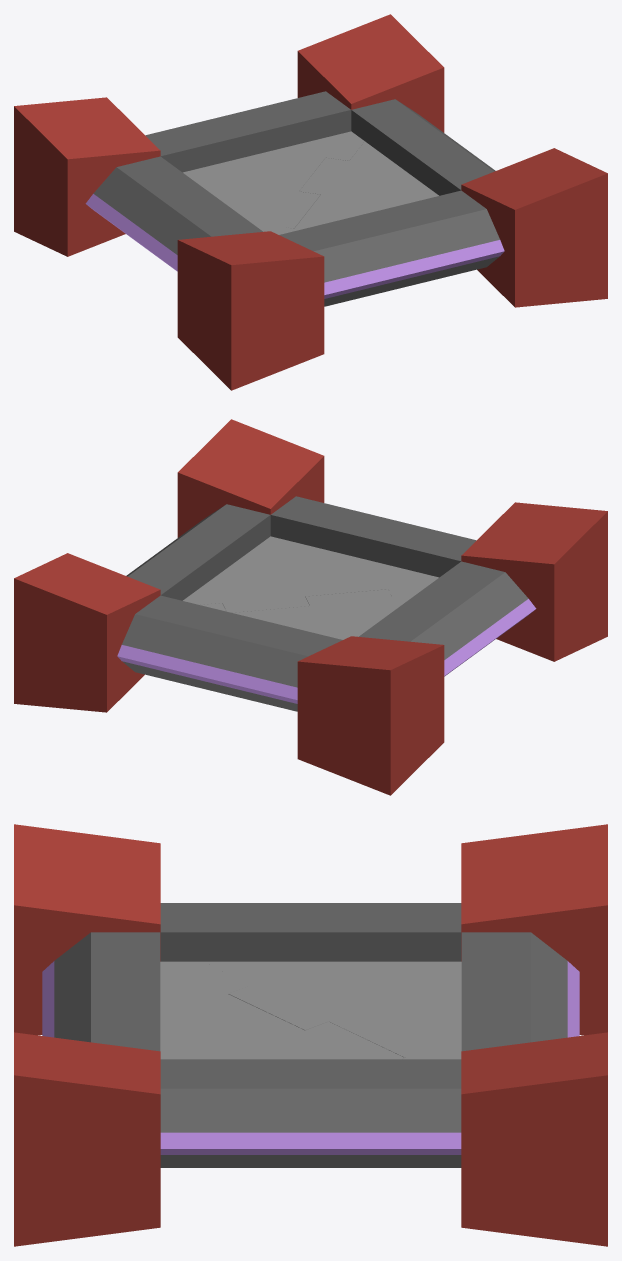
Rendered from trap (1).fbx.
The picture shows the model from 3 angles, top to bottom: view 1: azimuth 30°, elevation 25°; view 2: azimuth 150°, elevation 25°; view 3: azimuth 270°, elevation 25°; orthographic projection. The views are drawn at different scales.
Parts seen in each view (by area): view 1: Cube, Cube.001, Cube.002, Cube.003; view 2: Cube, Cube.001, Cube.003, Cube.002; view 3: Cube, Cube.001, Cube.002, Cube.003.
Part boxes in pixels (<box>): Cube: <box>14,14,607,390</box>; Cube.001: <box>85,91,504,306</box>; Cube.002: <box>183,131,364,231</box>; Cube.003: <box>268,141,438,234</box>; Cube: <box>14,419,607,795</box>; Cube.001: <box>117,496,536,711</box>; Cube.003: <box>183,536,438,612</box>; Cube.002: <box>200,589,412,639</box>; Cube: <box>14,824,607,1246</box>; Cube.001: <box>42,903,579,1167</box>; Cube.002: <box>203,961,461,1059</box>; Cube.003: <box>160,961,404,1059</box>.
Size of the model in its own units: 200 by 63.7 by 200.
